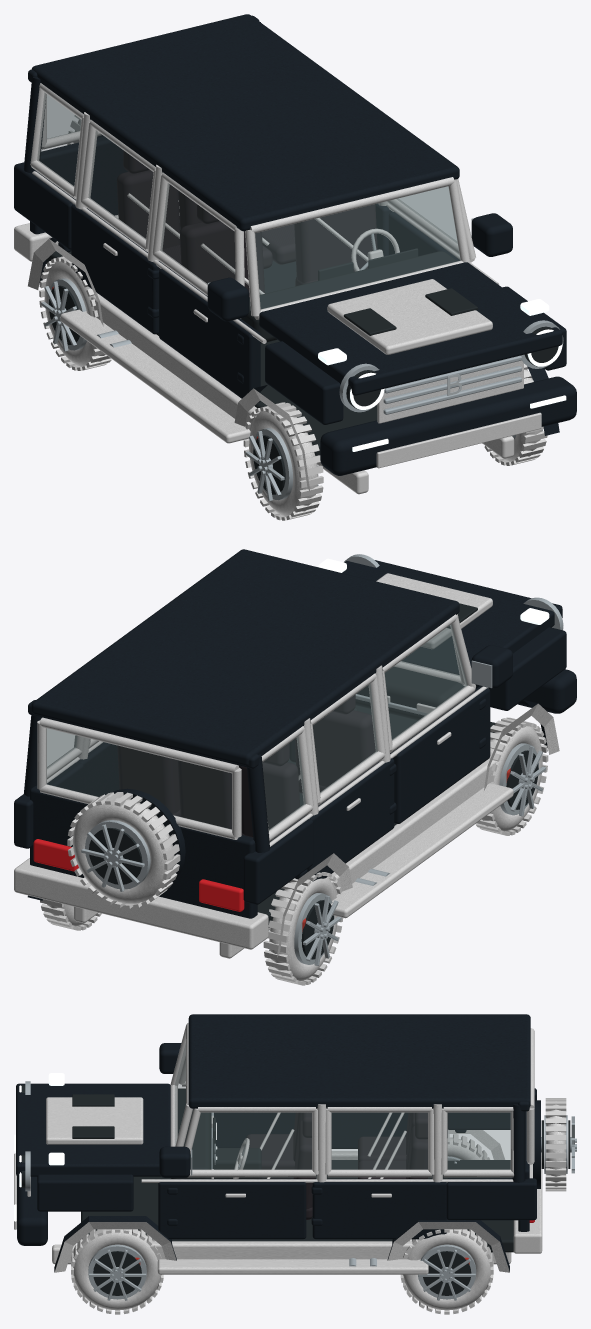
The model's file is brabus-g.glb.
3 views of the same model, one above another, from view 1: azimuth 30°, elevation 25°; view 2: azimuth 150°, elevation 25°; view 3: azimuth 270°, elevation 25° (orthographic). The views are drawn at different scales.
Visible parts, largest first — view 1: military_paint_batch, rubber_batch (×5), armoured_glass_batch, fabric_batch, cabin_trim_batch (×3), brightwork_batch (×3), headlamp_batch; view 2: military_paint_batch (×2), rubber_batch (×5), armoured_glass_batch, fabric_batch, brightwork_batch (×4), cabin_trim_batch (×5), tail_lamp_batch, headlamp_batch; view 3: military_paint_batch (×2), rubber_batch (×6), armoured_glass_batch, cabin_trim_batch (×4), fabric_batch, brightwork_batch (×4), headlamp_batch.
Boxes of the visible parts, left/top/right/bottom form: military_paint_batch: left=14, top=14, right=576, bottom=475; rubber_batch (×5): left=14, top=83, right=547, bottom=520; armoured_glass_batch: left=37, top=93, right=460, bottom=309; fabric_batch: left=117, top=150, right=377, bottom=297; cabin_trim_batch (×3): left=46, top=220, right=558, bottom=494; brightwork_batch (×3): left=41, top=218, right=563, bottom=501; headlamp_batch: left=318, top=299, right=566, bottom=451; military_paint_batch (×2): left=14, top=549, right=576, bottom=918; rubber_batch (×5): left=14, top=573, right=559, bottom=985; armoured_glass_batch: left=46, top=624, right=467, bottom=830; fabric_batch: left=117, top=694, right=375, bottom=837; brightwork_batch (×4): left=81, top=554, right=563, bottom=965; cabin_trim_batch (×5): left=89, top=603, right=538, bottom=959; tail_lamp_batch: left=33, top=839, right=244, bottom=911; headlamp_batch: left=318, top=558, right=549, bottom=624; military_paint_batch (×2): left=16, top=1014, right=540, bottom=1272; rubber_batch (×6): left=14, top=1023, right=566, bottom=1314; armoured_glass_batch: left=175, top=1044, right=510, bottom=1169; cabin_trim_batch (×4): left=21, top=1085, right=513, bottom=1295; fabric_batch: left=246, top=1112, right=427, bottom=1219; brightwork_batch (×4): left=25, top=1081, right=576, bottom=1300; headlamp_batch: left=14, top=1073, right=64, bottom=1221.
Size of the model in its own units: 2.36 by 2.02 by 4.9.
10 materials, 3 textured.
